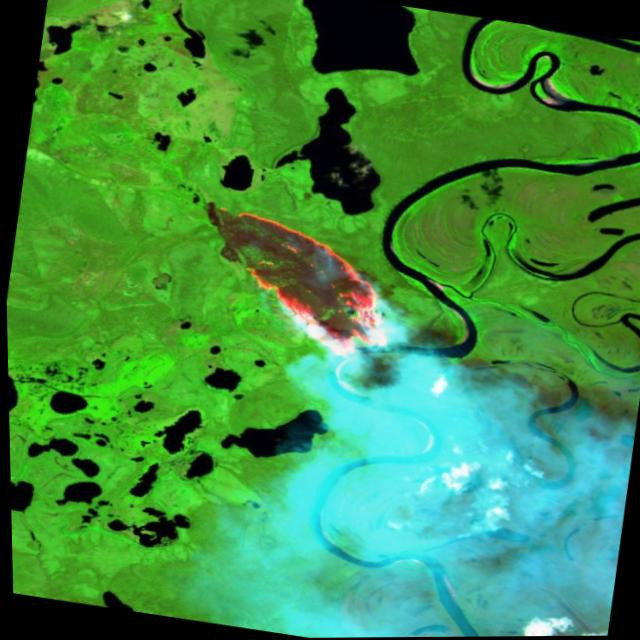fire: (186, 201, 414, 369)
